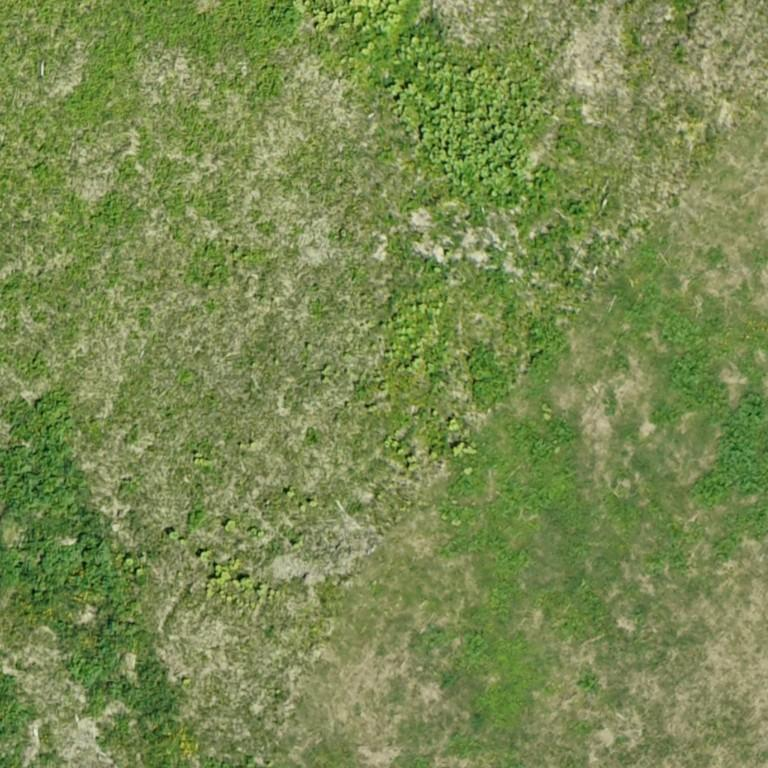hogweed: (0, 392, 124, 601), (654, 351, 767, 500), (50, 603, 174, 717)
